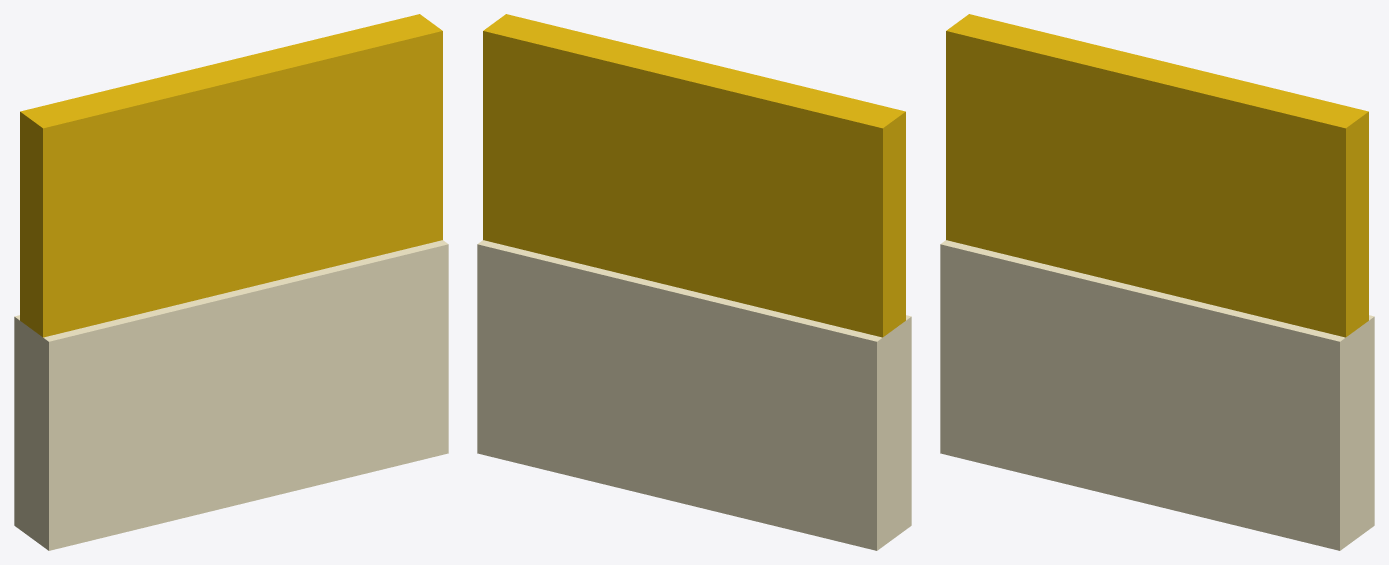
The model's file is Secretary-Room-Wall-2.fbx.
The picture shows the model from 3 angles, left to right: view 1: azimuth 30°, elevation 25°; view 2: azimuth 150°, elevation 25°; view 3: azimuth 330°, elevation 25°; orthographic projection.
Parts seen in each view (by area): view 1: Secretary-Room-Wall-2; view 2: Secretary-Room-Wall-2; view 3: Secretary-Room-Wall-2.
Part boxes in pixels (bbox=[...]): Secretary-Room-Wall-2: bbox=[14, 14, 448, 550]; Secretary-Room-Wall-2: bbox=[477, 14, 911, 550]; Secretary-Room-Wall-2: bbox=[940, 14, 1374, 550].
Bounding box in the file's own units: 2 × 2 × 0.3.
